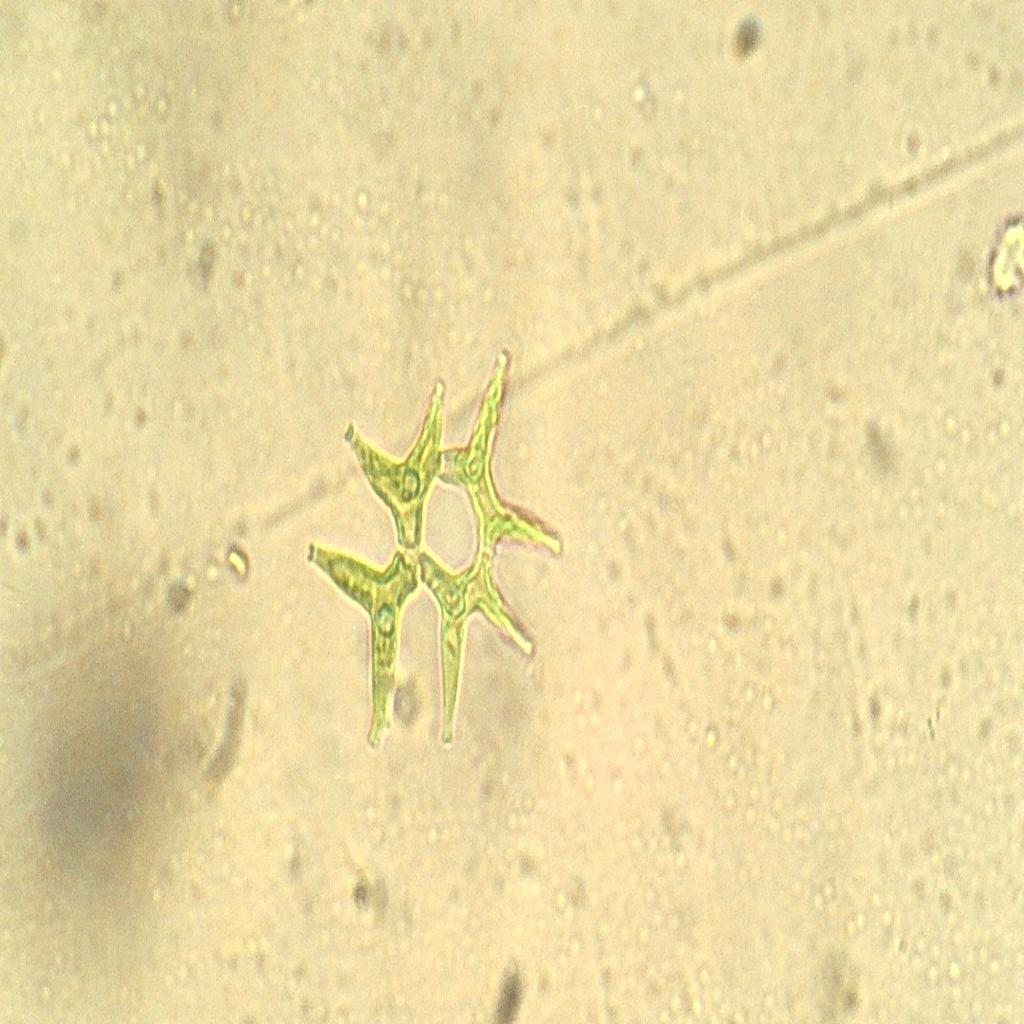Pediastrum_75FI: (290, 340, 573, 762)
